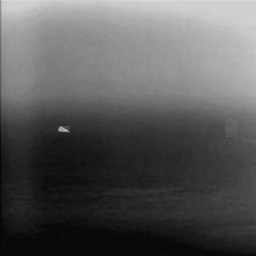Target: (56, 125, 70, 133)
